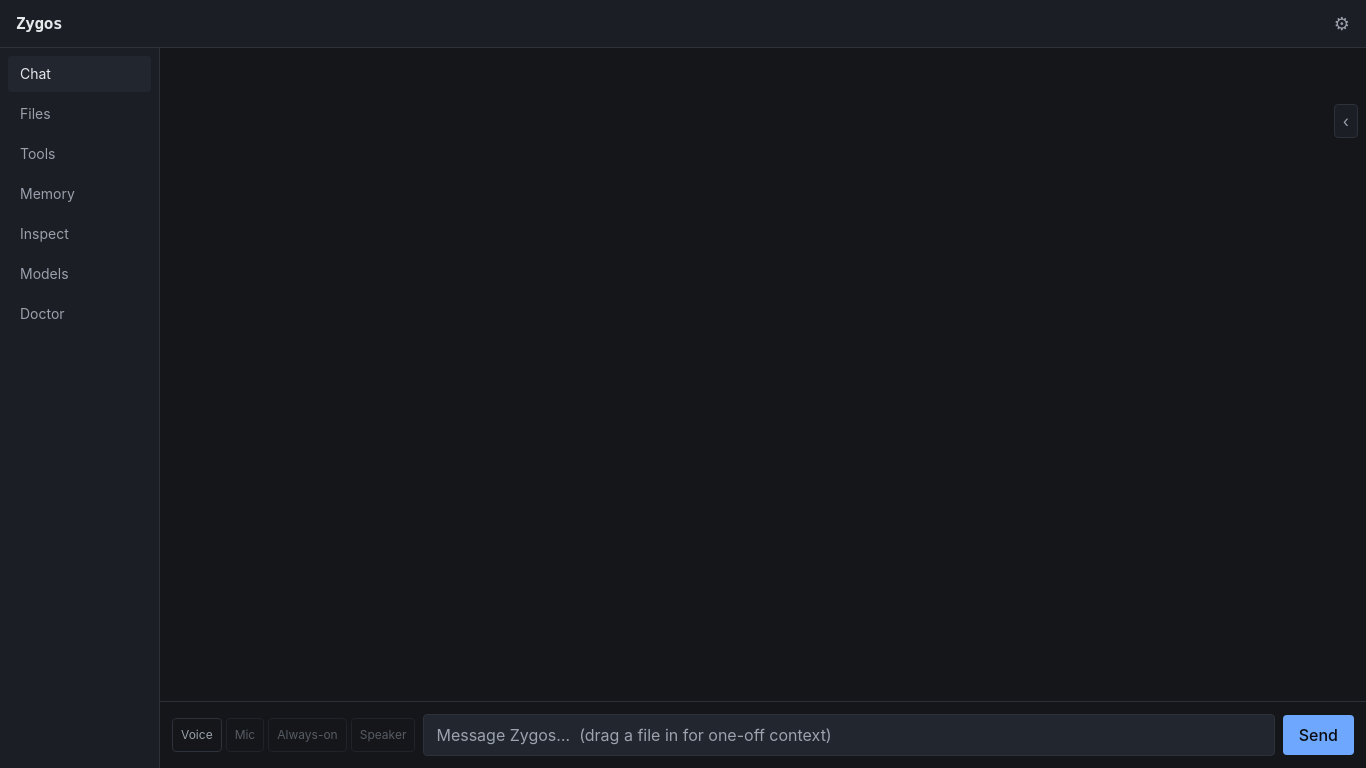
Test: context panel is closed by default and opens on toggle
This screenshot has width=1366, height=768.
What coordinates should you click on to do the following:
click the button named "Toggle context panel"
I would click on:
 (1346, 121)
Its box is [1334,104,1358,138].
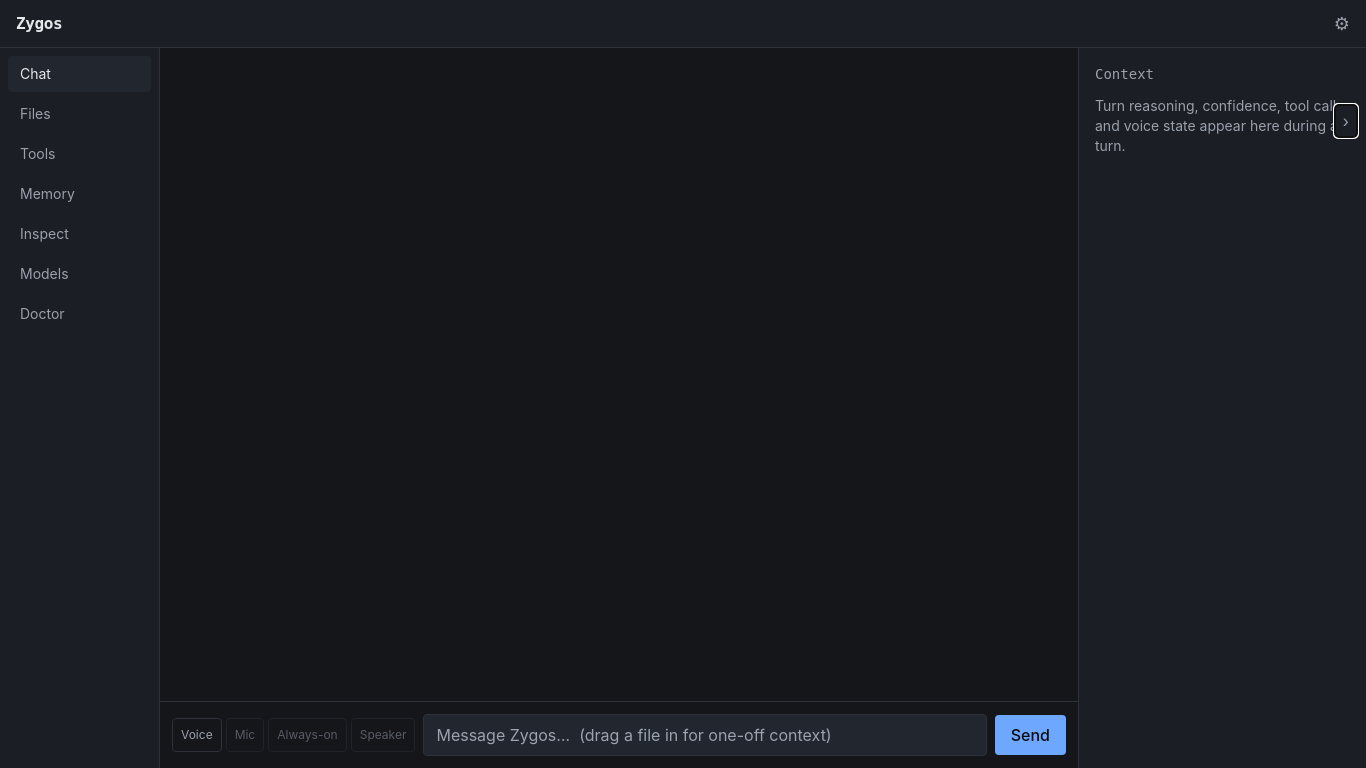
Result: the heading "Context" is shown at [1095,66,1154,82]
